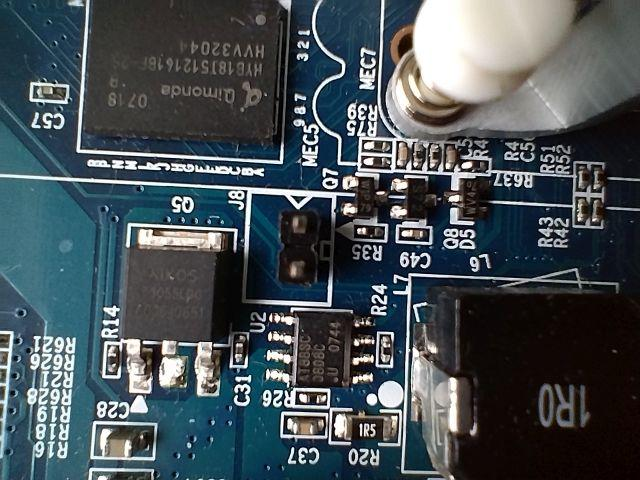capacitor: (86, 426, 161, 464), (18, 74, 82, 107), (282, 411, 330, 441), (396, 219, 427, 248), (231, 334, 254, 369), (397, 146, 407, 168), (446, 147, 454, 171)
resistor: (336, 415, 419, 449), (106, 341, 130, 378), (358, 226, 390, 247), (570, 166, 594, 190), (427, 142, 443, 172), (593, 199, 608, 224), (412, 147, 426, 164), (597, 166, 608, 187), (576, 199, 585, 223)
